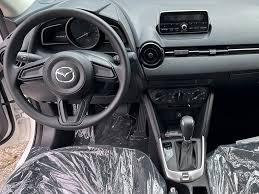mazda: (50, 60, 81, 88)
